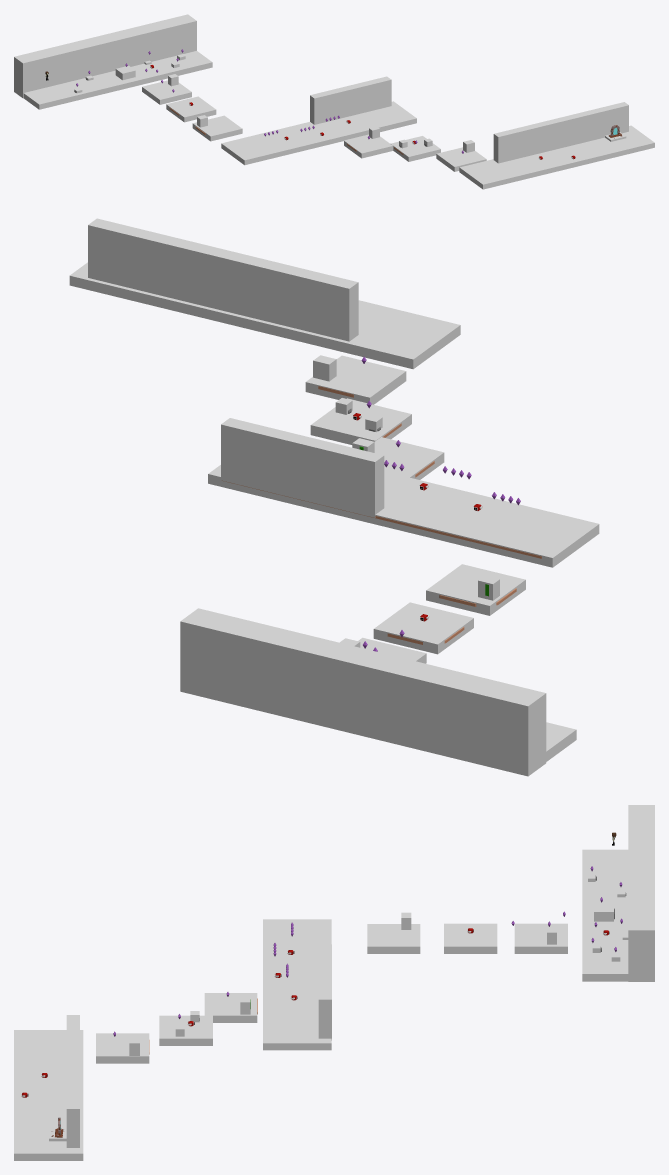
Rendered from level1.gltf.
The picture shows the model from 3 angles, top to bottom: view 1: azimuth 30°, elevation 25°; view 2: azimuth 150°, elevation 25°; view 3: azimuth 270°, elevation 25°; orthographic projection. The views are drawn at different scales.
Parts seen in each view (by area): view 1: Platform.001, Platform.016, Platform.021, Platform.022, Platform.002, Platform.017, Platform.009, Platform.012, Platform.018, Platform.014, Platform.019, Platform.020; view 2: Platform.001, Platform.022, Platform.016, Platform.017, Platform.021, Platform.009, Platform.020, Platform.014, Platform.019, Platform.018, LevelGeom, Platform.002; view 3: Platform.016, Platform.021, Platform.002, Platform.001, Platform.022, Platform.009, Platform.014, Platform.012, Platform.019, Platform.020, Platform.018, Platform.017.
Part boxes in pixels (bbox=[...]): Platform.001: bbox=[14, 14, 196, 98]; Platform.016: bbox=[221, 101, 416, 165]; Platform.021: bbox=[459, 125, 654, 189]; Platform.022: bbox=[493, 102, 628, 163]; Platform.002: bbox=[23, 51, 212, 109]; Platform.017: bbox=[310, 76, 391, 124]; Platform.009: bbox=[166, 96, 216, 122]; Platform.012: bbox=[142, 80, 191, 104]; Platform.018: bbox=[344, 134, 393, 158]; Platform.014: bbox=[192, 115, 242, 141]; Platform.019: bbox=[390, 136, 440, 161]; Platform.020: bbox=[436, 147, 486, 171]; Platform.001: bbox=[180, 608, 546, 776]; Platform.022: bbox=[88, 218, 358, 341]; Platform.016: bbox=[208, 465, 599, 567]; Platform.017: bbox=[221, 418, 384, 517]; Platform.021: bbox=[69, 262, 460, 369]; Platform.009: bbox=[373, 602, 473, 654]; Platform.020: bbox=[305, 355, 406, 404]; Platform.014: bbox=[426, 564, 525, 615]; Platform.019: bbox=[310, 398, 411, 444]; Platform.018: bbox=[374, 437, 444, 479]; LevelGeom: bbox=[222, 386, 541, 644]; Platform.002: bbox=[546, 722, 576, 761]; Platform.016: bbox=[263, 919, 331, 1050]; Platform.021: bbox=[14, 1030, 83, 1160]; Platform.002: bbox=[582, 849, 628, 981]; Platform.001: bbox=[628, 805, 654, 981]; Platform.022: bbox=[66, 1015, 79, 1147]; Platform.009: bbox=[444, 923, 497, 953]; Platform.014: bbox=[367, 924, 420, 953]; Platform.012: bbox=[514, 923, 567, 953]; Platform.019: bbox=[159, 1015, 212, 1045]; Platform.020: bbox=[96, 1033, 149, 1063]; Platform.018: bbox=[204, 993, 257, 1022]; Platform.017: bbox=[318, 944, 331, 1040].
Size of the model in its own units: 185 by 15.69 by 165.
